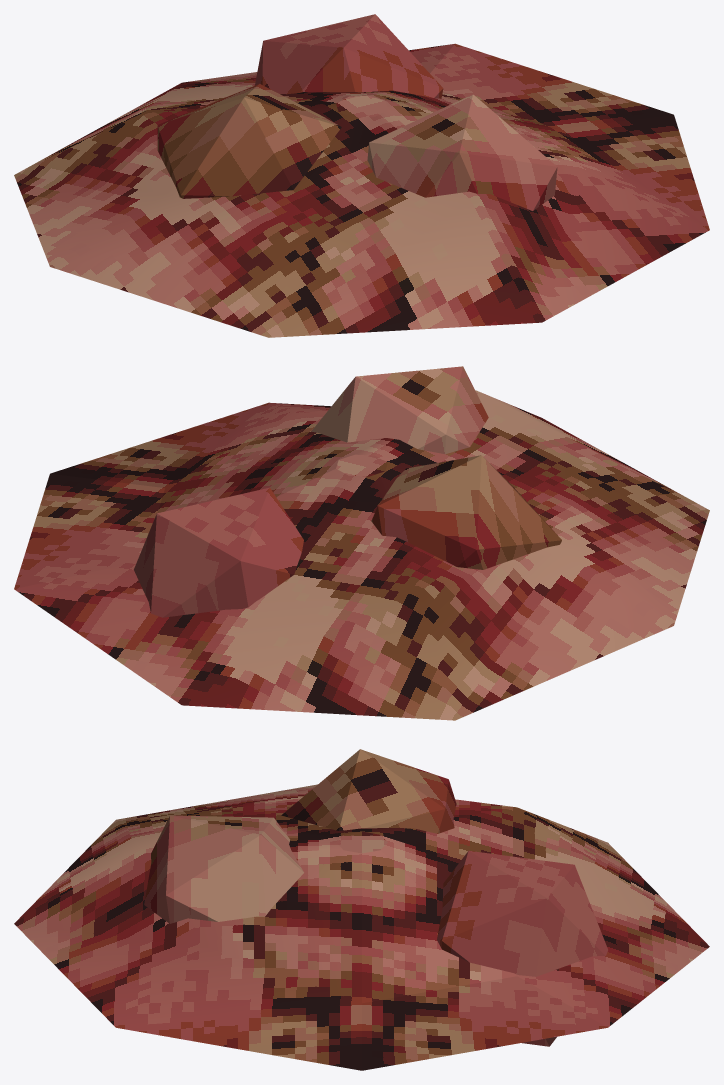
Rendered from barrel_filler_apples.glb.
3 views of the same model, one above another, from view 1: azimuth 30°, elevation 25°; view 2: azimuth 150°, elevation 25°; view 3: azimuth 270°, elevation 25° (orthographic). The views are drawn at different scales.
Visible parts, largest first — view 1: barrel_filler_apples; view 2: barrel_filler_apples; view 3: barrel_filler_apples.
Boxes of the visible parts, x1,y1,x2,y2 form: barrel_filler_apples: (14,14,709,337); barrel_filler_apples: (14,366,709,720); barrel_filler_apples: (14,749,709,1070).
Size of the model in its own units: 1.01 by 0.3268 by 1.01.
Materials: 1 (1 with a texture image).
